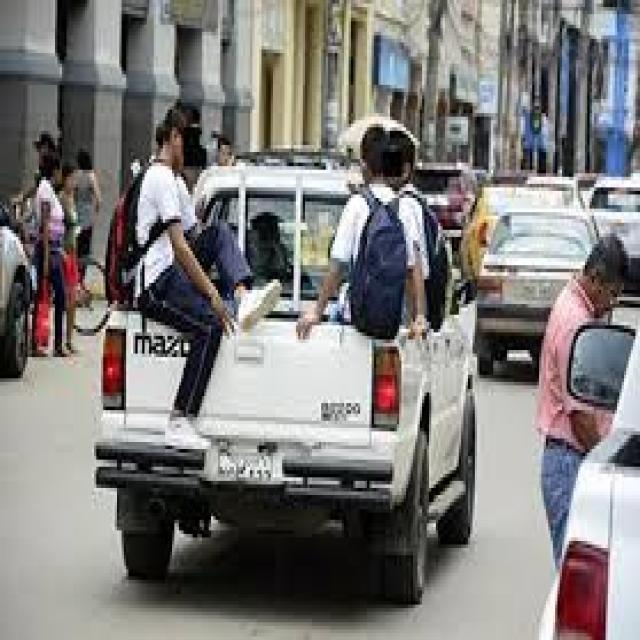CMT: (103, 159, 481, 605)
